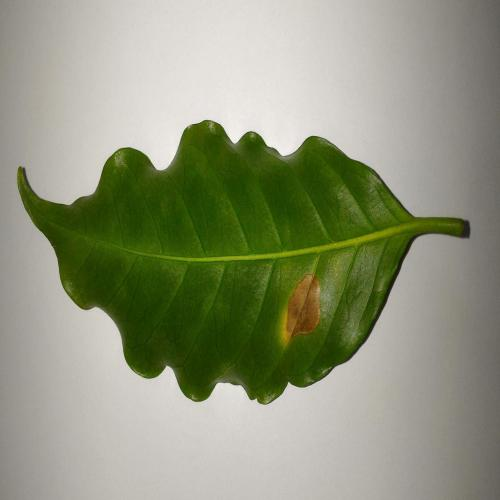leaf: (281, 272, 321, 345)
